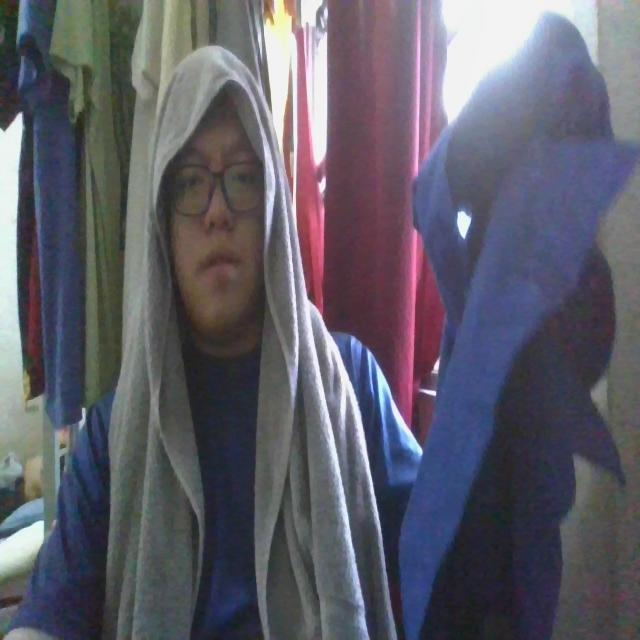person_without_labcoat: (8, 14, 640, 639)
